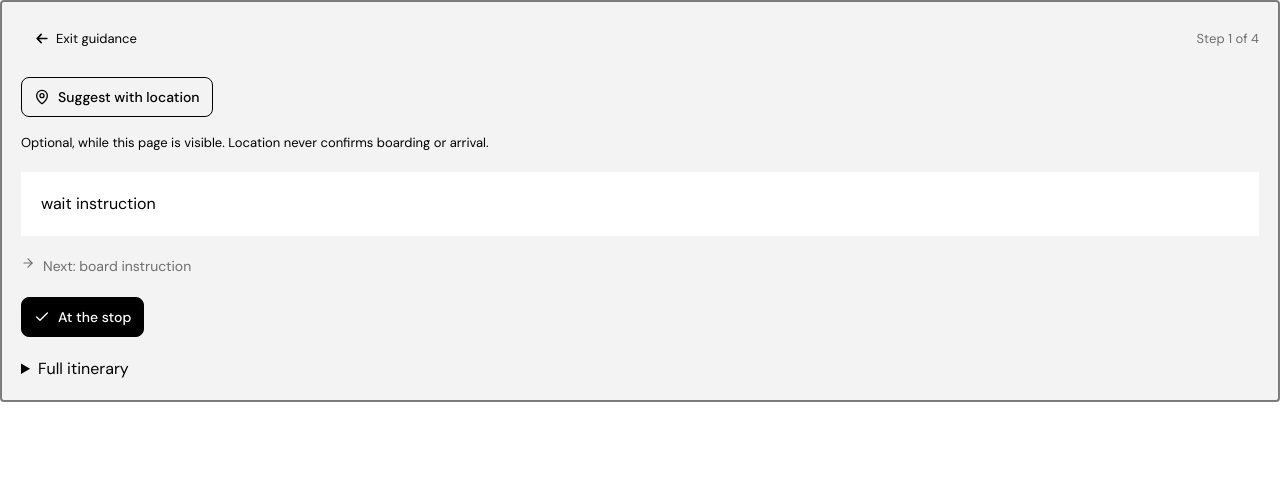
Test: Passenger-controlled guidance › location suggestions never advance steps and the watcher stops on exit
Click the button "Suggest with location". click: (117, 97)
box: x1=21 y1=77 x2=213 y2=117
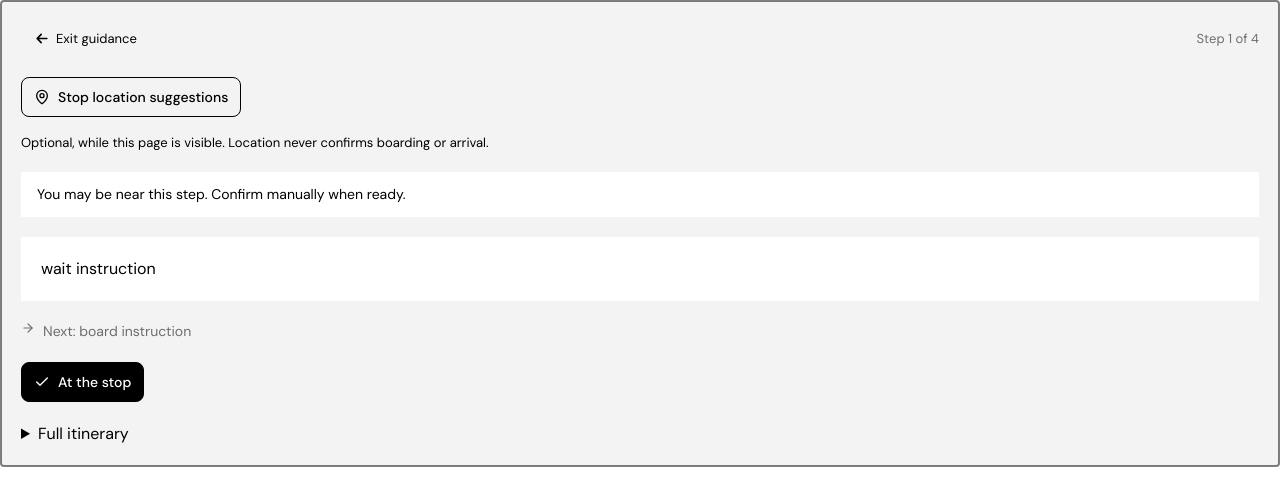
Expected: the button "At the stop" is shown, x1=21 y1=362 x2=144 y2=402
Now the text "You may be near this step. Confirm manually when ready." is shown, box x1=21 y1=172 x2=1259 y2=217
